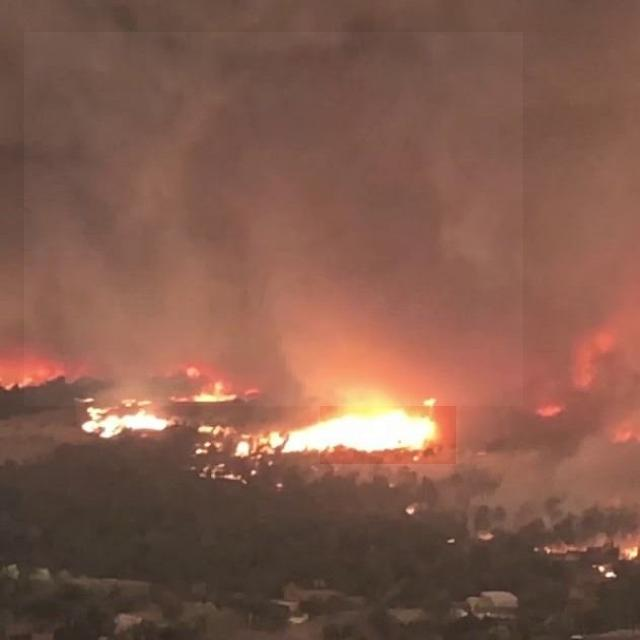Fire: (320, 391, 456, 464), (82, 400, 166, 439)
Smoke: (24, 32, 523, 406)
